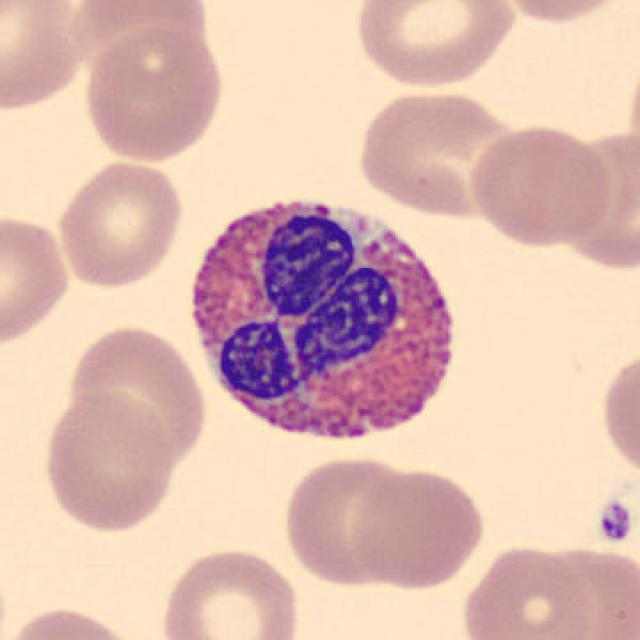Eosinophil: (178, 171, 476, 469)
Platelets: (592, 496, 636, 548)
RBC: (353, 84, 522, 220), (62, 321, 210, 464), (78, 25, 228, 164), (39, 388, 178, 536), (466, 120, 617, 250), (281, 455, 418, 589), (348, 464, 489, 592), (52, 157, 186, 291), (348, 0, 521, 90), (155, 543, 304, 640), (457, 541, 599, 640), (557, 130, 640, 280), (519, 541, 638, 640), (66, 2, 217, 79), (0, 206, 75, 353), (0, 0, 91, 115), (595, 342, 640, 485), (2, 603, 148, 640), (490, 0, 634, 28)
